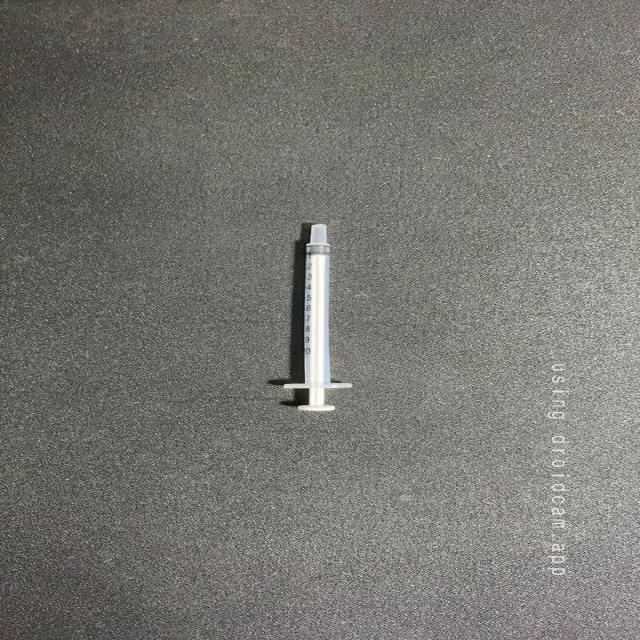syringe: (276, 216, 363, 420)
